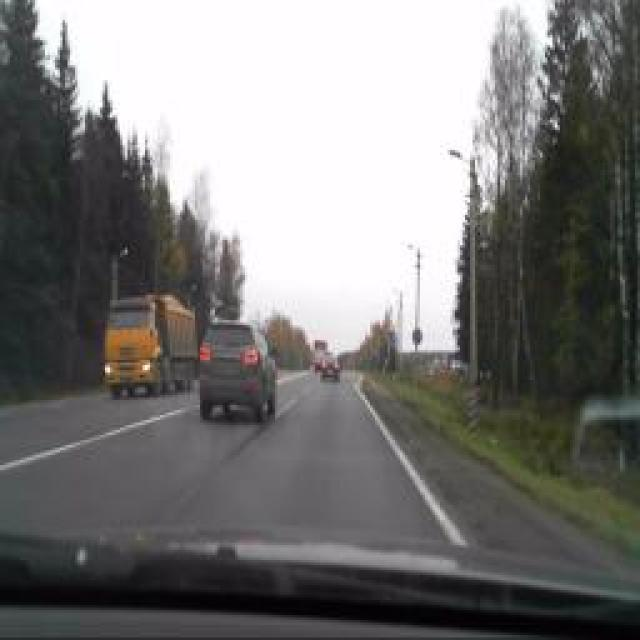sign: (411, 326, 424, 346)
